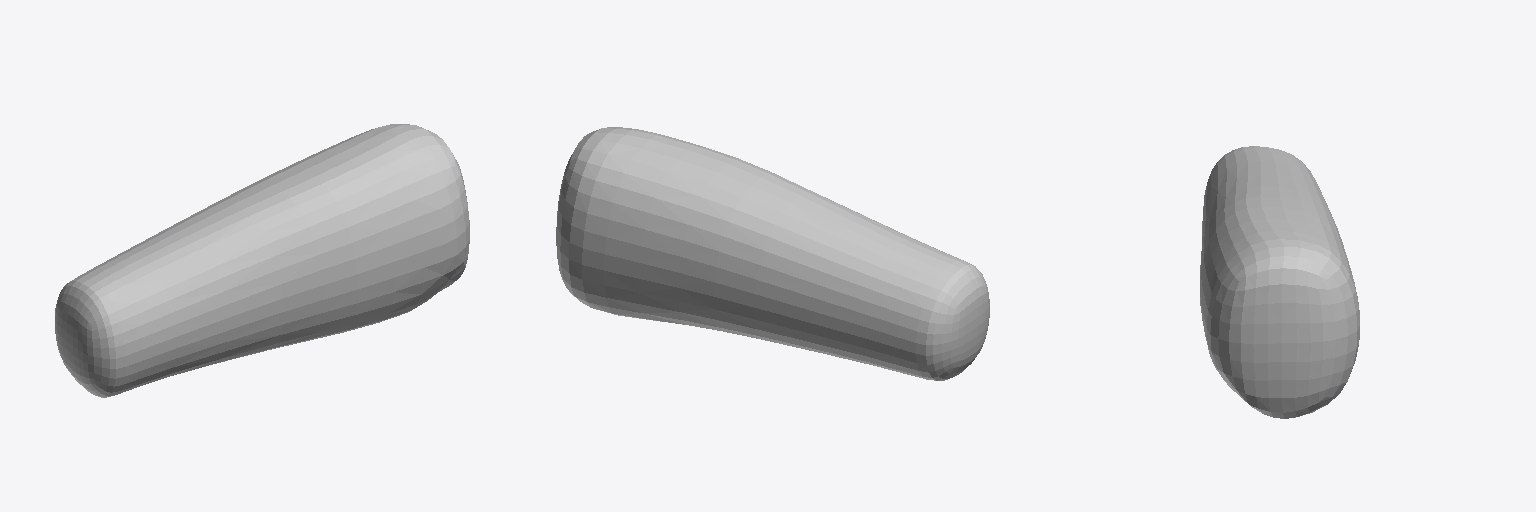
Rendered from f_rlarm.obj.
3 renders of one model, left to right at view 1: azimuth 30°, elevation 25°; view 2: azimuth 150°, elevation 25°; view 3: azimuth 270°, elevation 25°, orthographic.
Visible parts, largest first — view 1: pCube6; view 2: pCube6; view 3: pCube6.
Boxes of the visible parts, x1,y1,x2,y2 form: pCube6: [55, 124, 469, 397]; pCube6: [556, 127, 989, 380]; pCube6: [1200, 146, 1359, 418].
Size of the model in its own units: 0.9434 by 0.3963 by 0.3341.